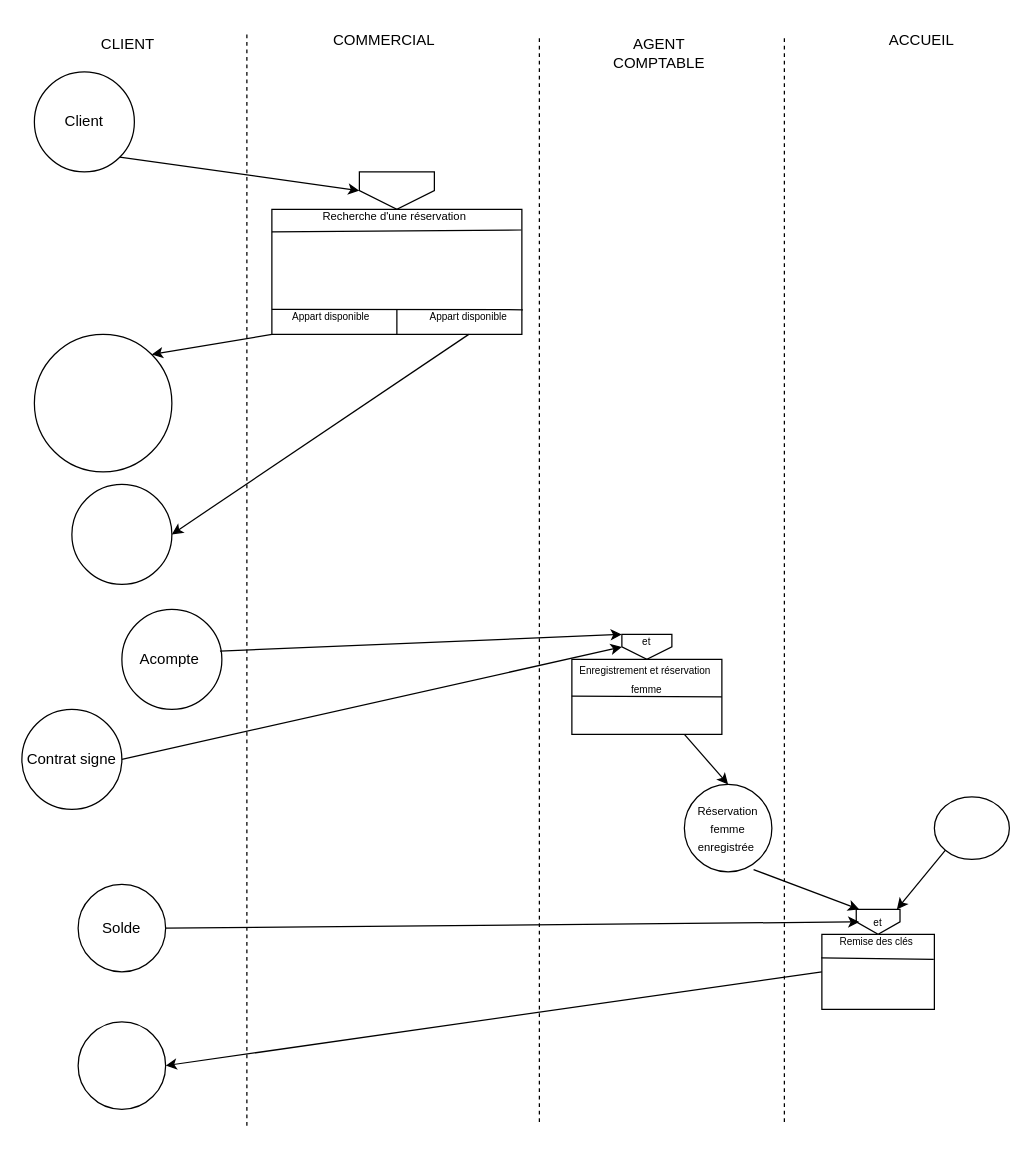
This 1031x1149 diagram has some shape labels left out. The centre of each missing label's shape, as x and y in pixels:
Clés: the point at 121,1065
Contrat de location à signer: the point at 121,533
Début de location: the point at 971,827
Liste d'agences succeptibles de repondre au besoin du client: the point at 102,402
